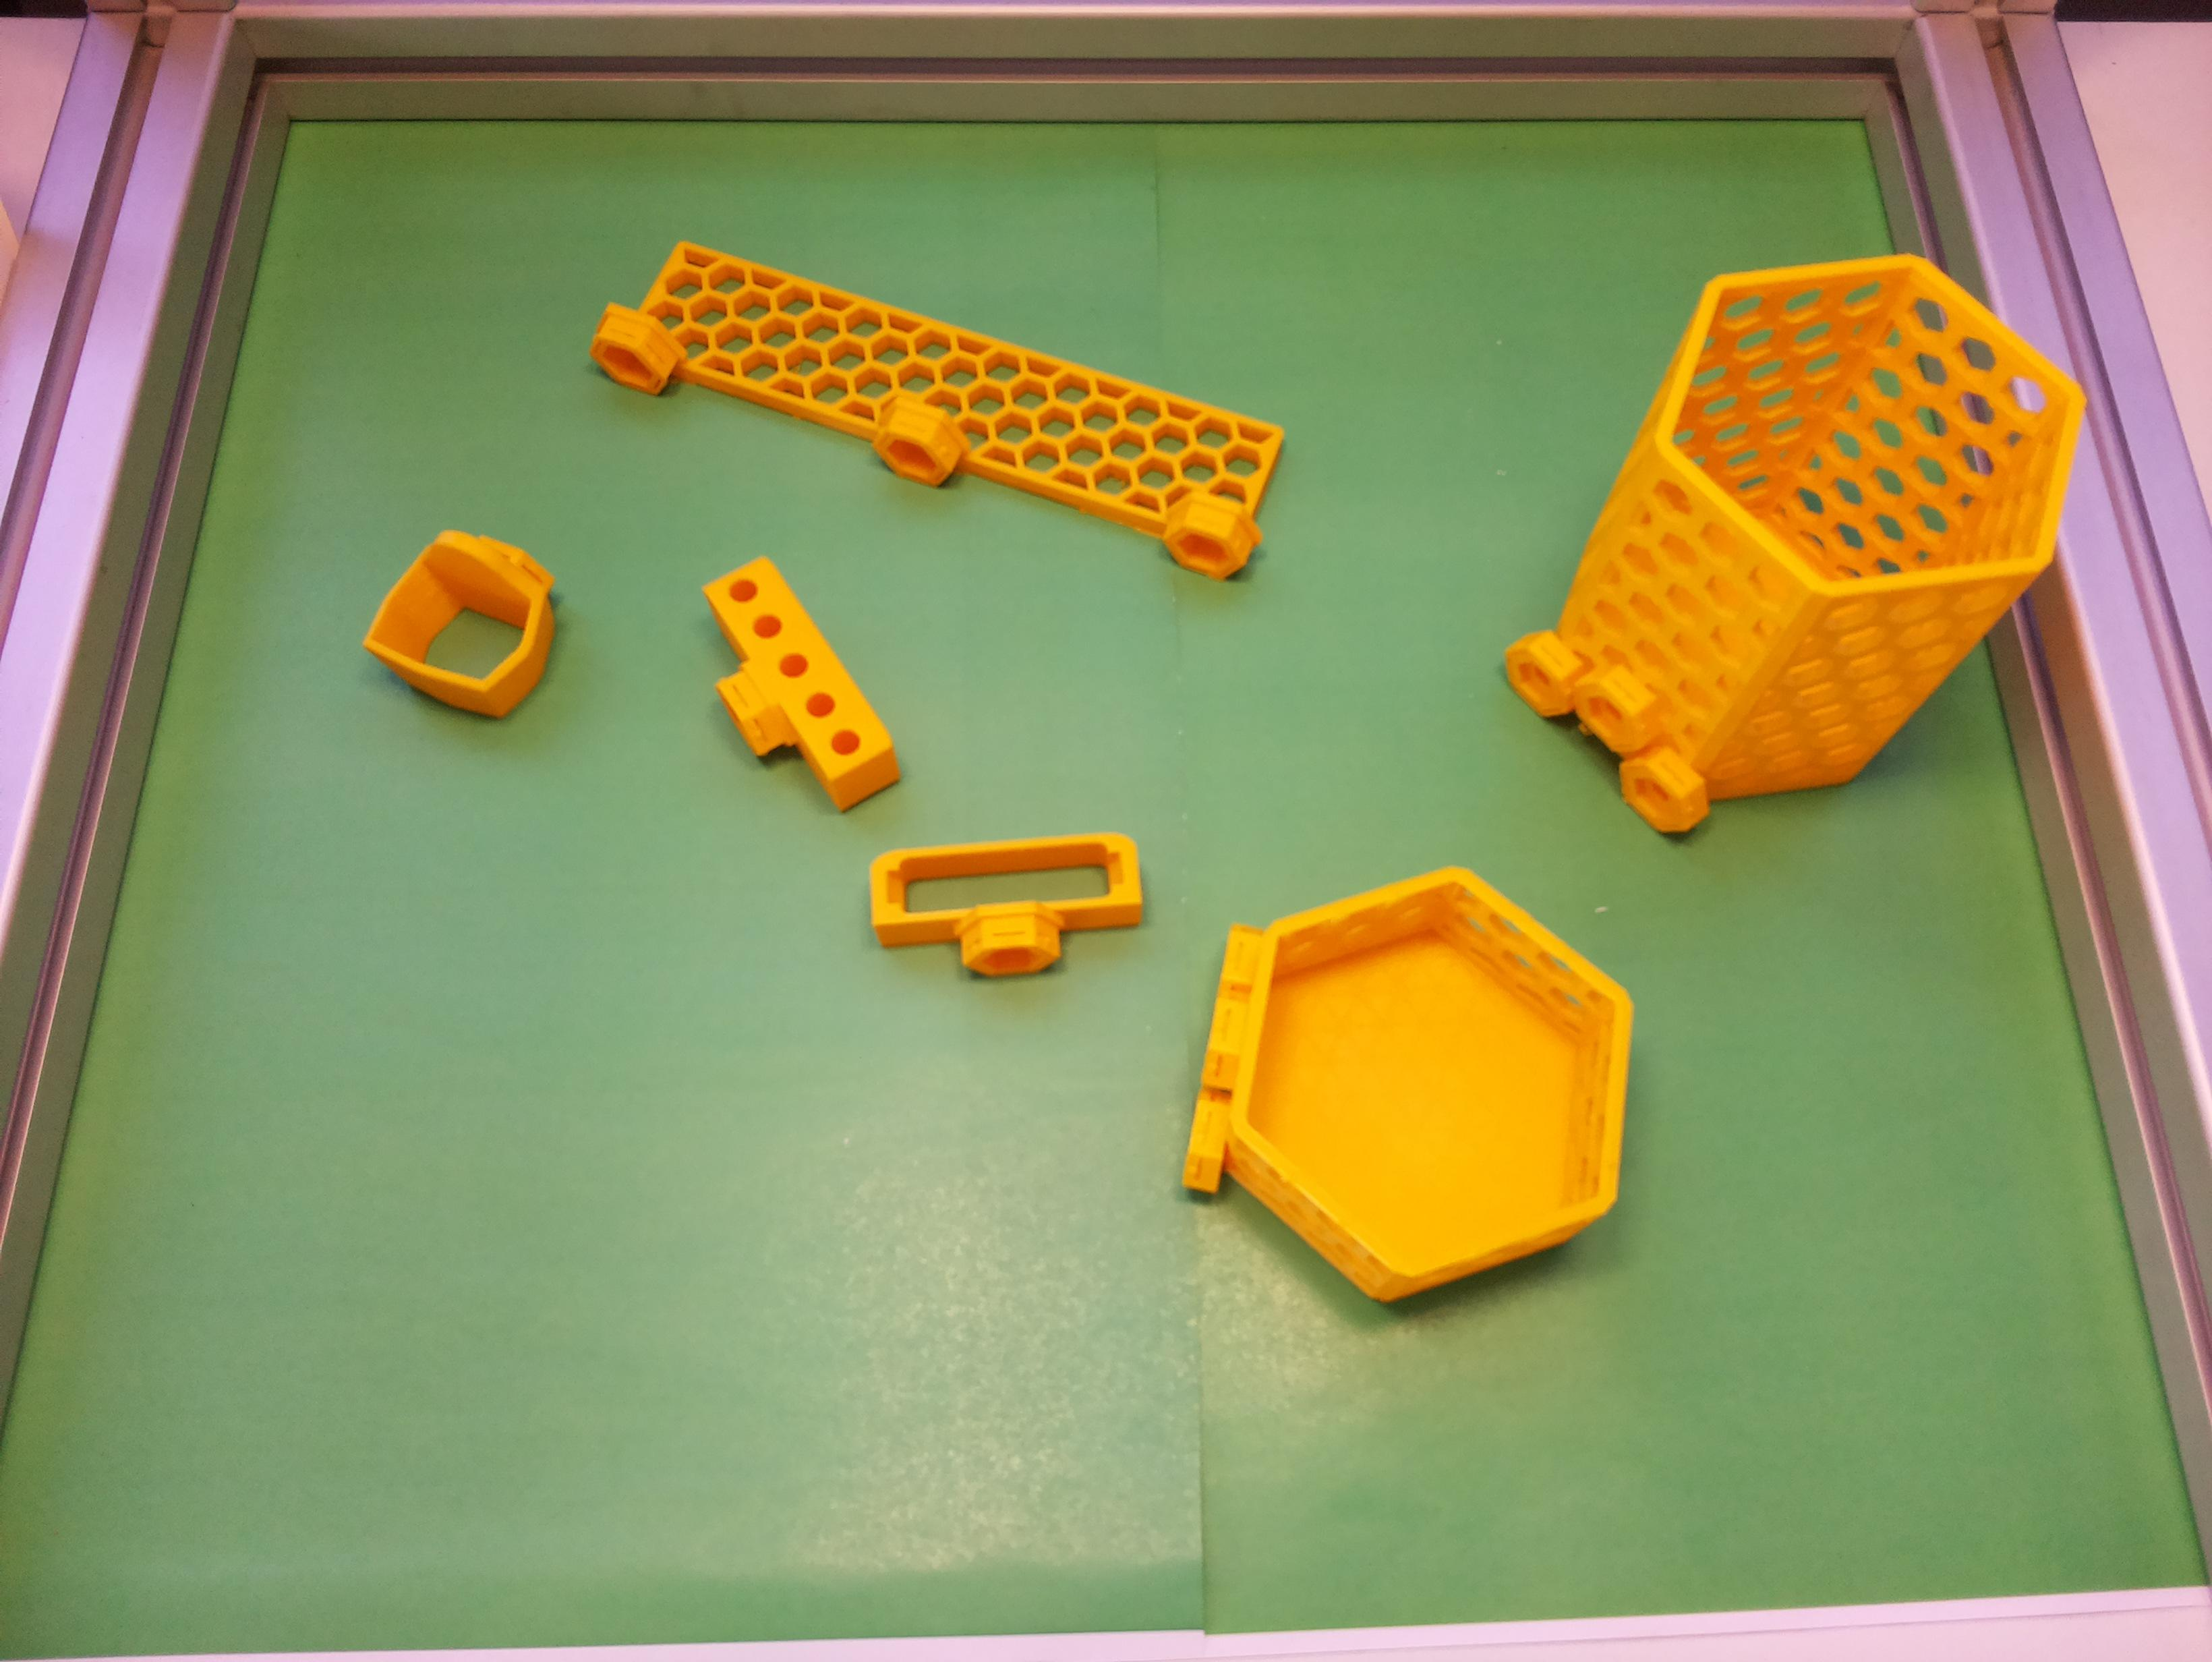bit_holder: (662, 548, 915, 840)
bottle_holder: (1175, 847, 1645, 1320)
cup_holder: (1412, 155, 2151, 904)
cutter_holder: (862, 826, 1151, 988)
scissor_holder: (353, 503, 594, 742)
tool_holder: (580, 223, 1294, 588)
